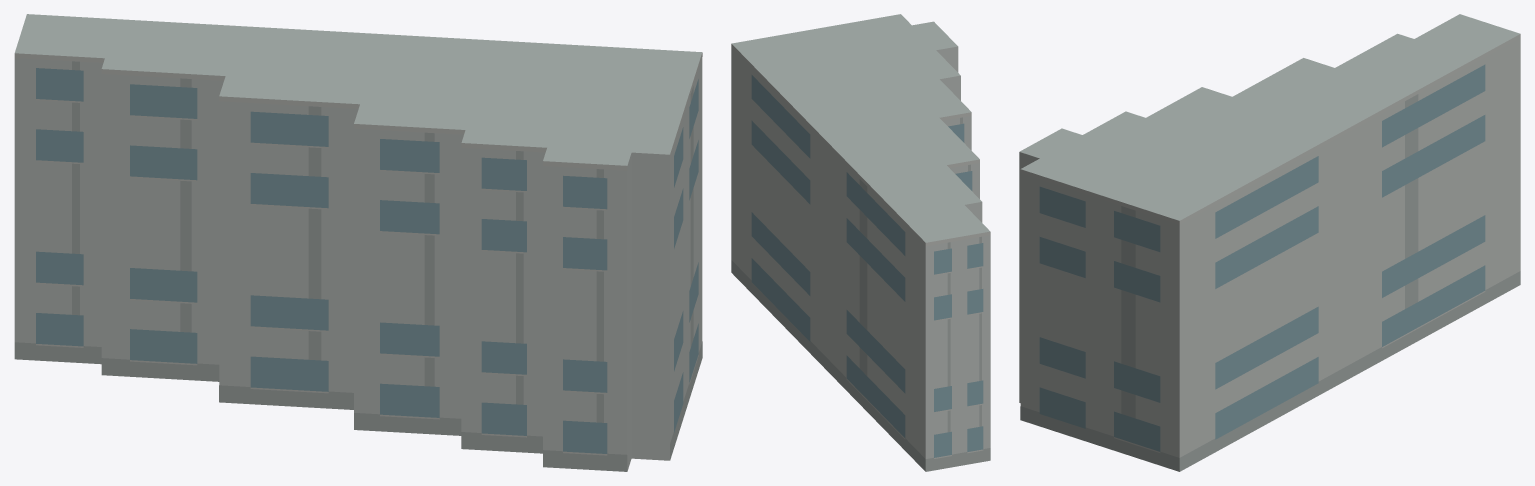
The model's file is residential-78c9ff81-c773-4577-b7fb-27753db45bb6.glb.
The picture shows the model from 3 angles, left to right: view 1: azimuth 30°, elevation 25°; view 2: azimuth 150°, elevation 25°; view 3: azimuth 270°, elevation 25°; orthographic projection. The views are drawn at different scales.
Parts seen in each view (by area): view 1: residential-78c9ff81-c773-4577-b7fb-27753db45bb6.tmp; view 2: residential-78c9ff81-c773-4577-b7fb-27753db45bb6.tmp; view 3: residential-78c9ff81-c773-4577-b7fb-27753db45bb6.tmp.
Boxes of the visible parts, bbox=[...] form: residential-78c9ff81-c773-4577-b7fb-27753db45bb6.tmp: bbox=[14, 14, 702, 471]; residential-78c9ff81-c773-4577-b7fb-27753db45bb6.tmp: bbox=[731, 14, 990, 471]; residential-78c9ff81-c773-4577-b7fb-27753db45bb6.tmp: bbox=[1019, 14, 1520, 471].
Bounding box in the file's own units: 26.96 × 15.25 × 27.62.
